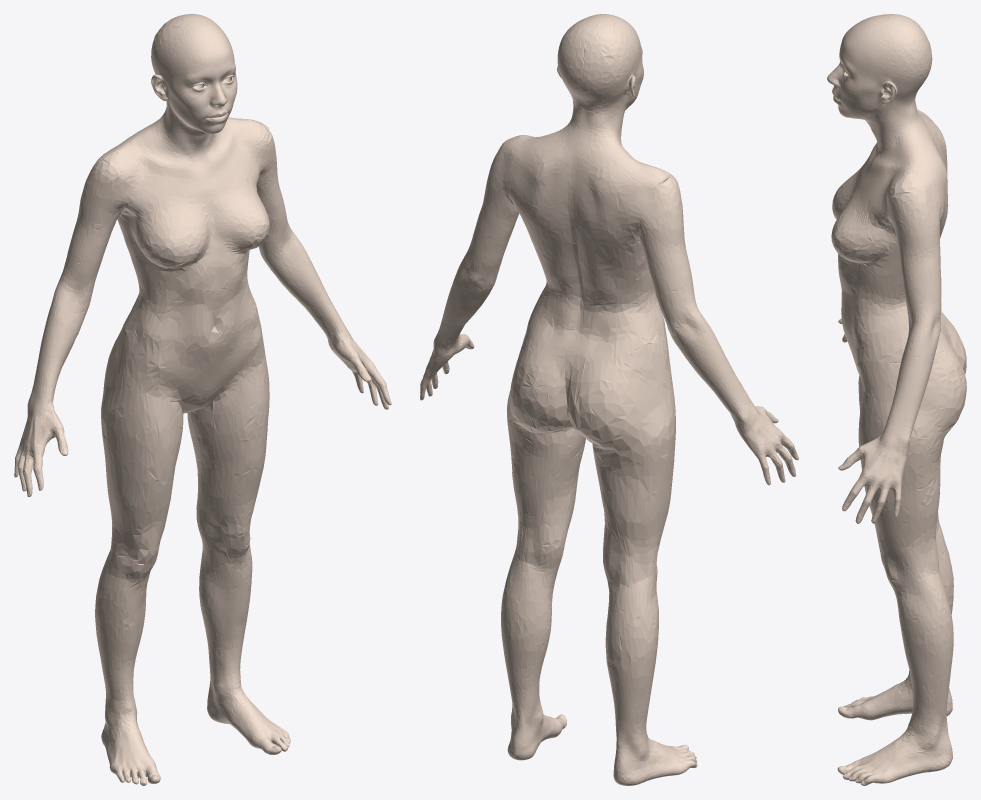
File: skin-female.glb
3 renders of one model, left to right at view 1: azimuth 30°, elevation 25°; view 2: azimuth 150°, elevation 25°; view 3: azimuth 270°, elevation 25°, orthographic.
Visible parts, largest first — view 1: geometry_0; view 2: geometry_0; view 3: geometry_0.
Boxes of the visible parts, x1=… form: geometry_0: x1=14, y1=14, x2=391, y2=785; geometry_0: x1=420, y1=14, x2=798, y2=785; geometry_0: x1=827, y1=14, x2=966, y2=785.
Size of the model in its own units: 0.8955 by 1.74 by 0.3029.
